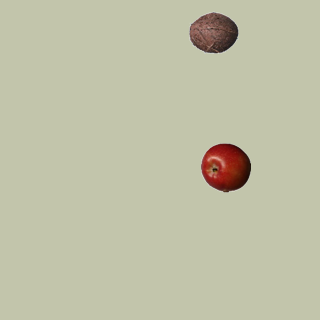Apple Braeburn: (200, 142, 250, 192)
Cocos: (188, 7, 238, 57)
